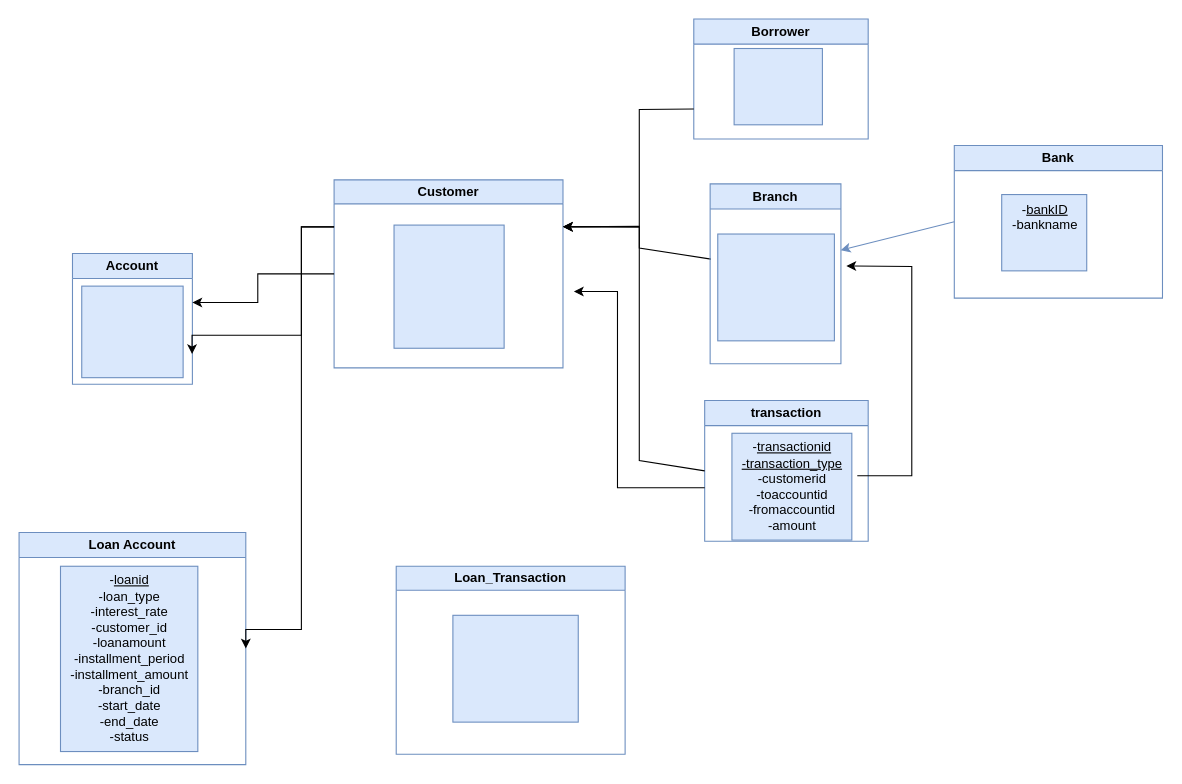
This 1182x784 diagram has some shape labels left out. Here are the shapes that lost their labels. From the top down, the centre of each, then its label:
(x=777, y=86): -loanid -customerid -creditscore
(x=448, y=286): - customerID -name -customer_type -address -GovtID -Phone number
(x=775, y=287): - branchID -branch name -city -street -no_of_accounts
(x=132, y=331): - accountid -account_type -customerID -balance -start_date
(x=515, y=668): -loantransactionID -loanid -customerid -paymentdate -amount
